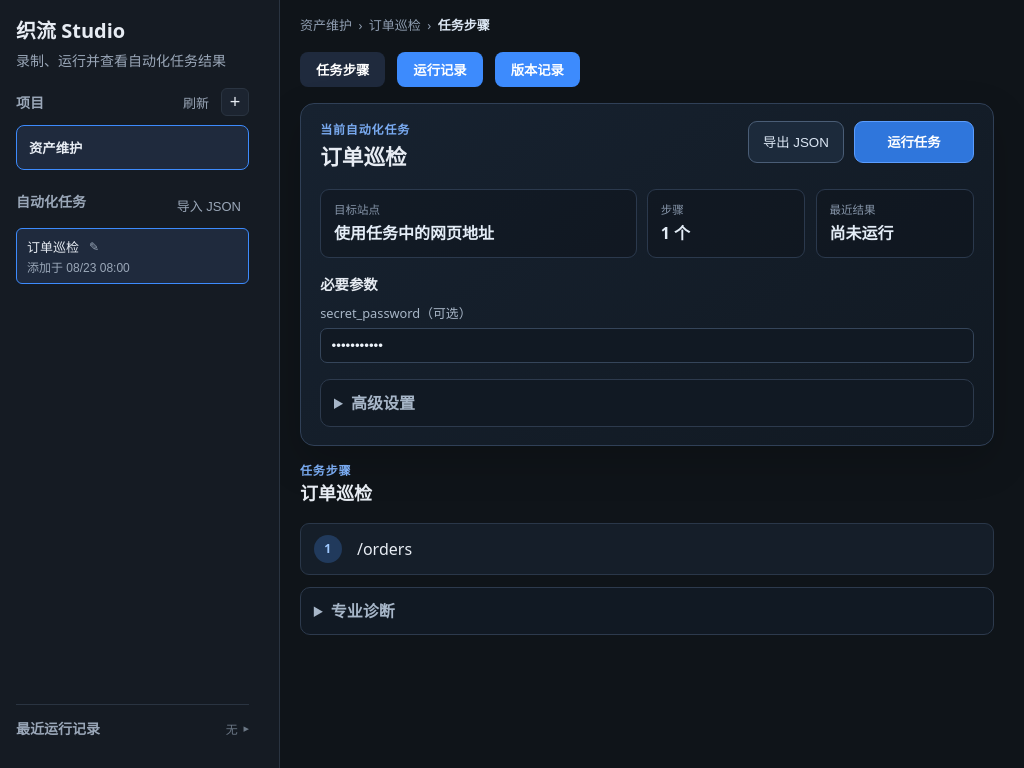
Test: Studio 本地资产维护 › v1 慢响应不能覆盖 v2，并拒绝 document.id 不匹配
Step 1. Click the button "版本记录" → (537, 69), box top-left (495, 52), bottom-right (580, 86)
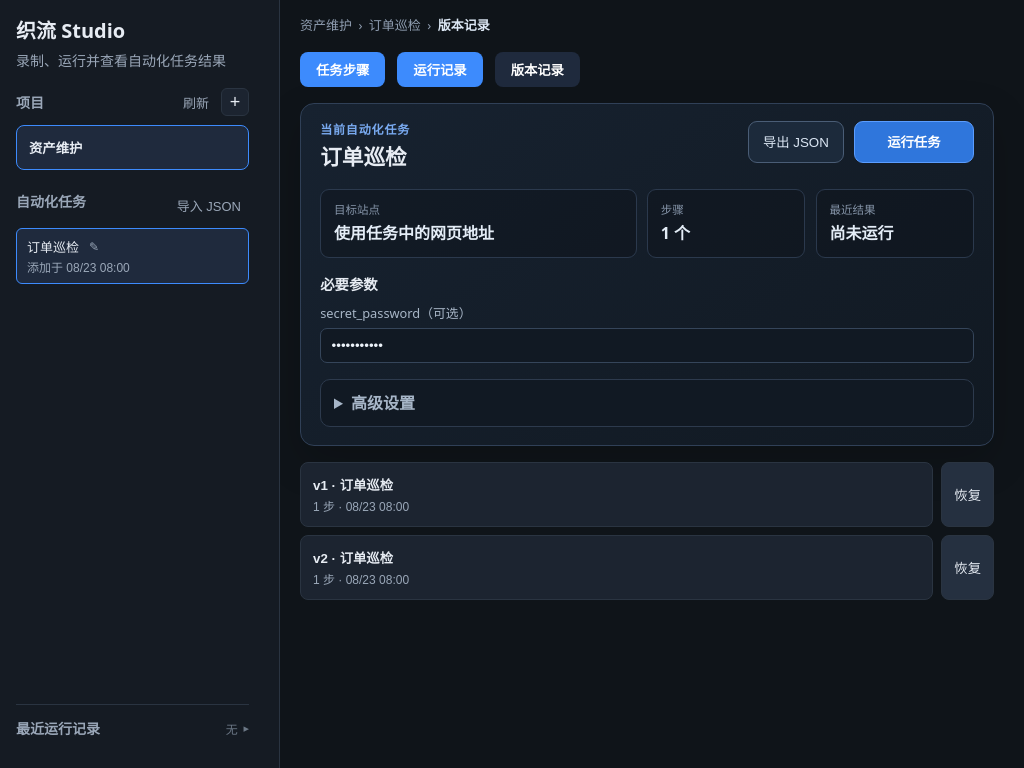
Step 2. Click the button with class "flow-version-summary" showing "v1 · 订单巡检 1 步 · 08/23 08:00" → (366, 485), box top-left (300, 462), bottom-right (933, 527)
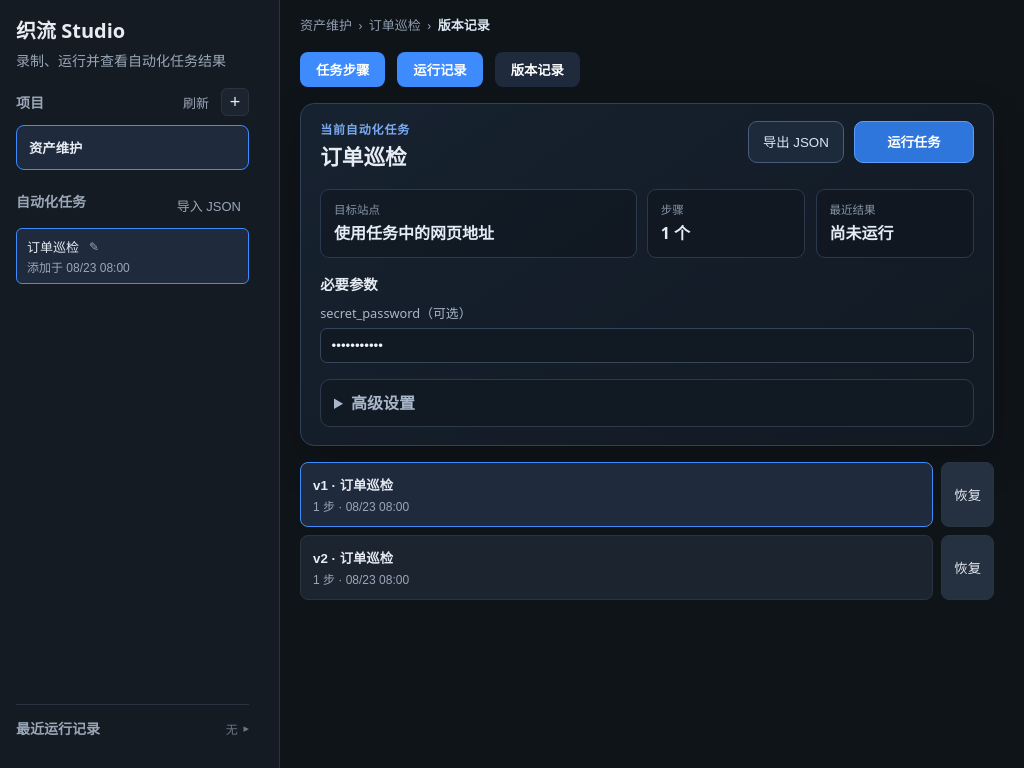
Step 3. Click the button with class "flow-version-summary" showing "v2 · 订单巡检 1 步 · 08/23 08:00" → (366, 558), box top-left (300, 535), bottom-right (933, 600)
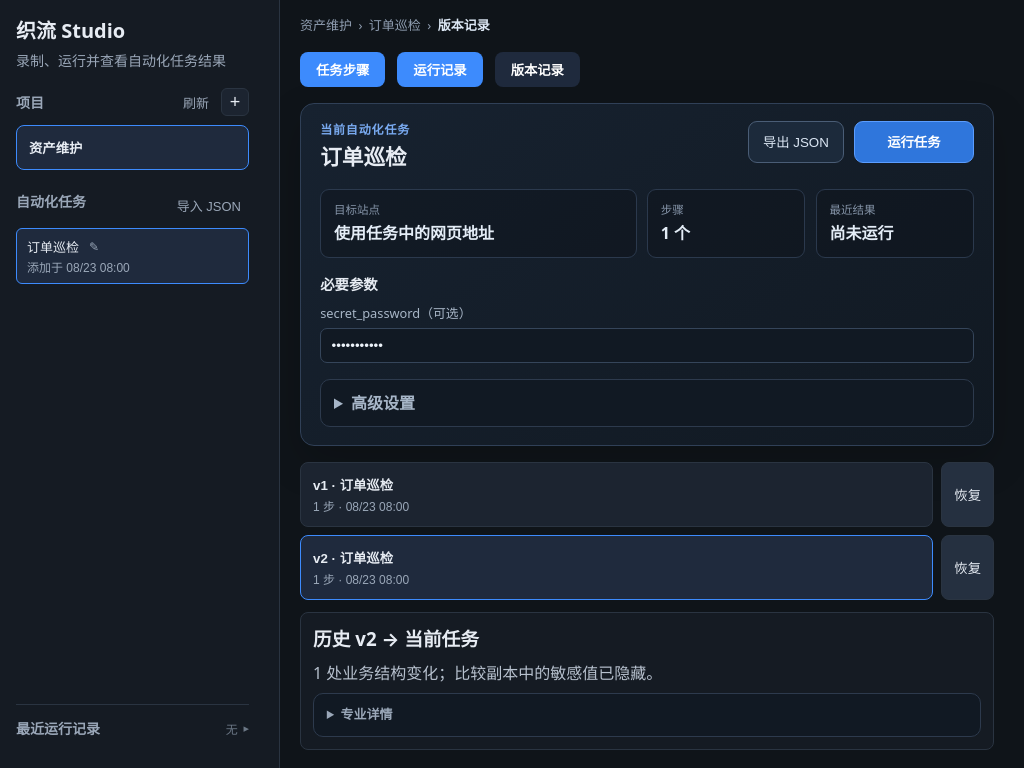
expect the text "历史 v2 → 当前任务" is shown: met, box top-left (313, 626), bottom-right (479, 651)
expect the text "敏感值已隐藏" is shown: met, box top-left (322, 662), bottom-right (662, 684)
Step 4. Click the button with class "flow-version-summary" showing "v1 · 订单巡检 1 步 · 08/23 08:00" → (366, 485), box top-left (300, 462), bottom-right (933, 527)
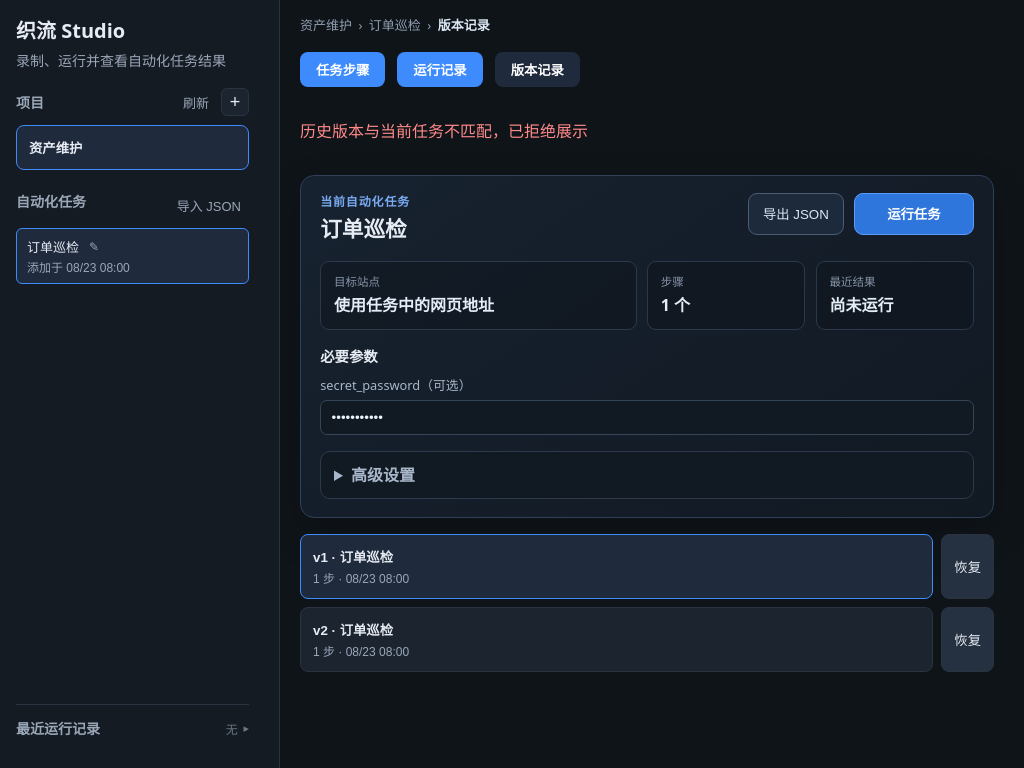
expect the text "历史版本与当前任务不匹配" is shown: met, box top-left (300, 120), bottom-right (588, 142)
